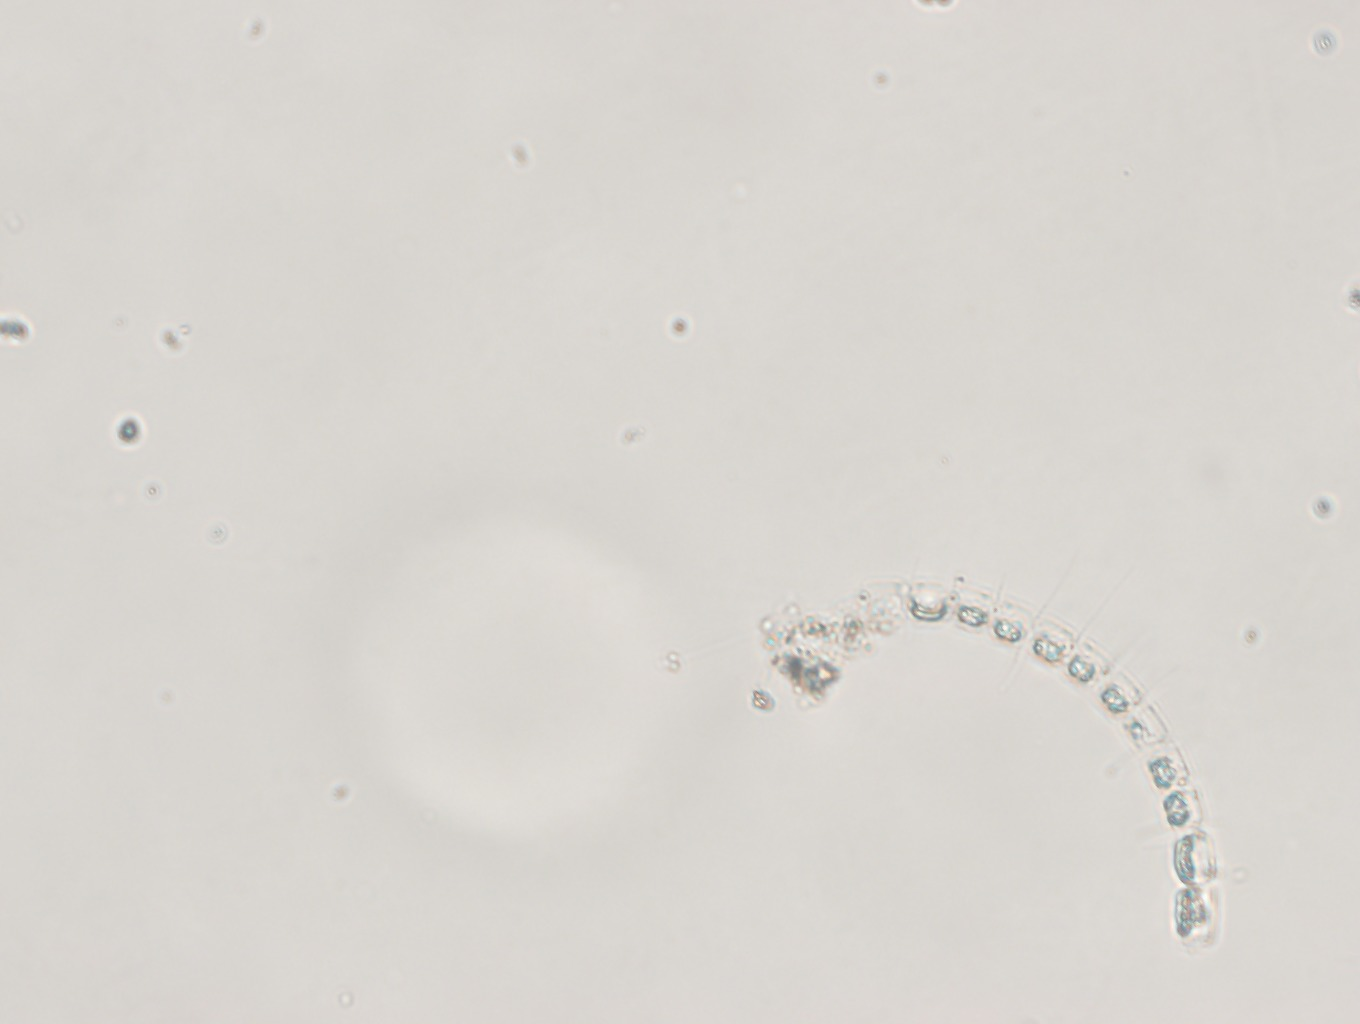chaetoceros: (744, 564, 1245, 961)
